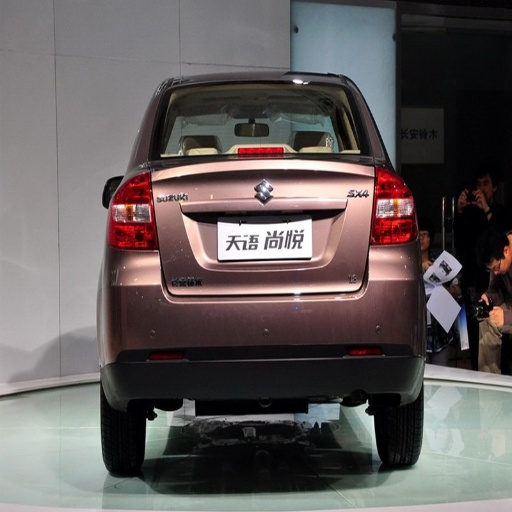back_bumper: (100, 242, 449, 422)
